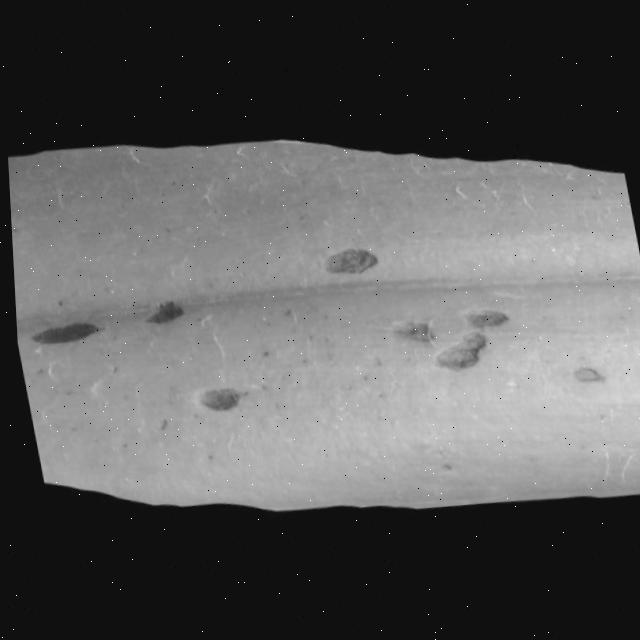mite: (11, 222, 522, 430), (18, 290, 246, 429), (133, 288, 243, 417), (424, 322, 487, 366), (128, 286, 189, 331), (381, 309, 433, 341), (456, 296, 507, 324), (137, 294, 182, 323)
sunburn: (22, 313, 104, 349), (311, 235, 381, 275), (187, 376, 248, 413)
